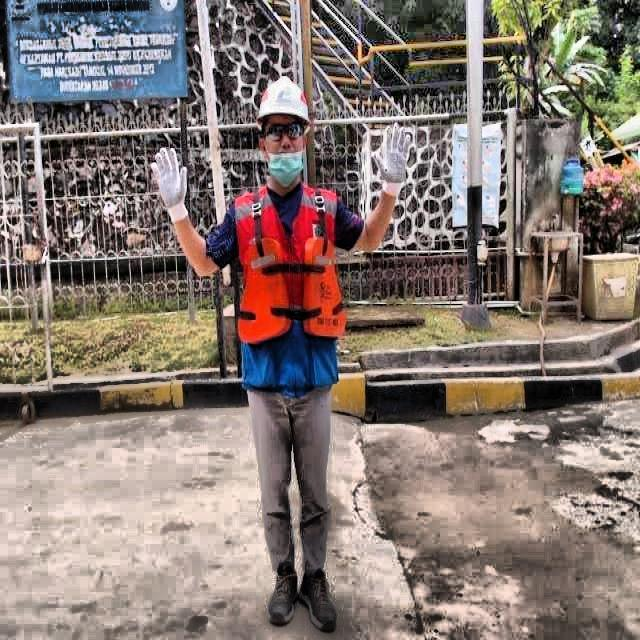safety_helmet: (257, 78, 310, 122)
safety_jacket: (234, 181, 347, 389)
